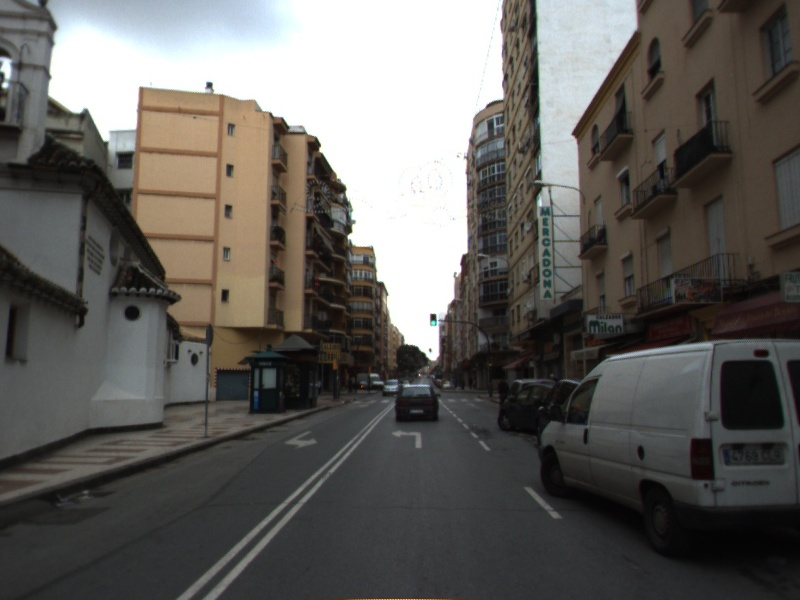LEFT: (390, 428, 423, 450)
